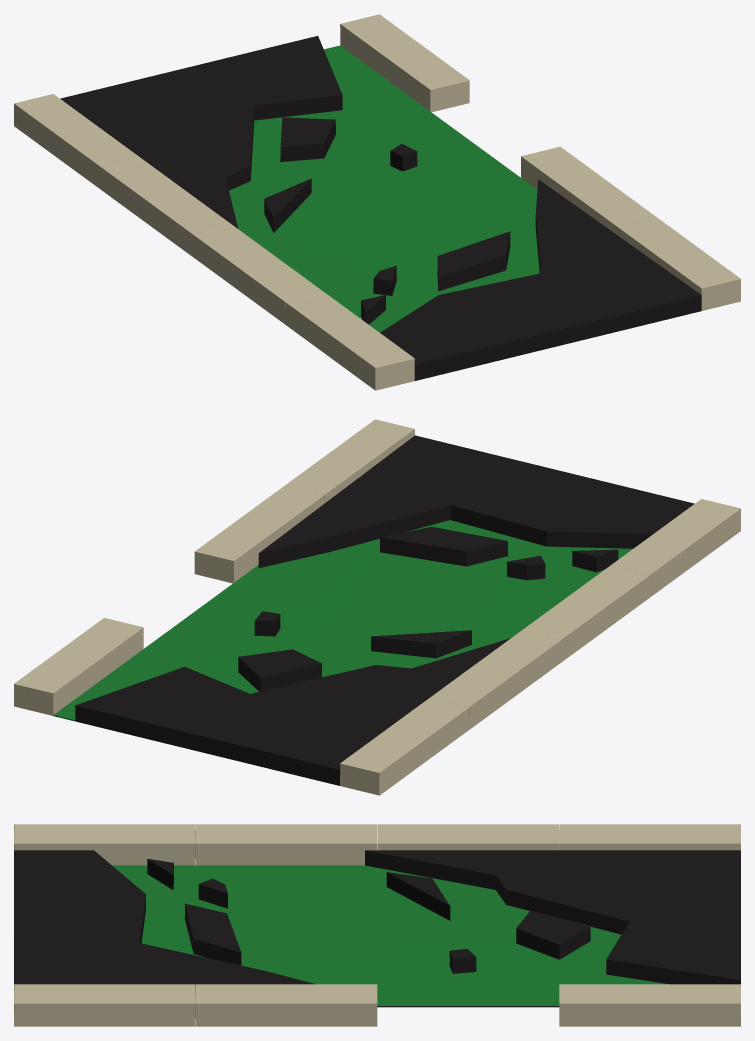
The model's file is brokenroadstraight (7).fbx.
The picture shows the model from 3 angles, top to bottom: view 1: azimuth 30°, elevation 25°; view 2: azimuth 150°, elevation 25°; view 3: azimuth 270°, elevation 25°; orthographic projection.
Visible parts, largest first — view 1: düzyol.003; view 2: düzyol.003; view 3: düzyol.003.
Boxes of the visible parts, x1,y1,x2,y2 form: düzyol.003: (14, 14, 740, 390); düzyol.003: (14, 419, 740, 795); düzyol.003: (14, 824, 740, 1026).
Size of the model in its own units: 117 by 6.97 by 200.
